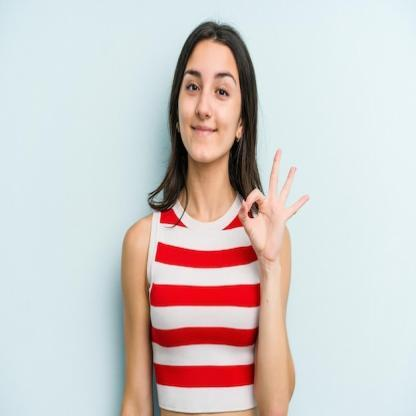ok: (236, 144, 310, 272)
